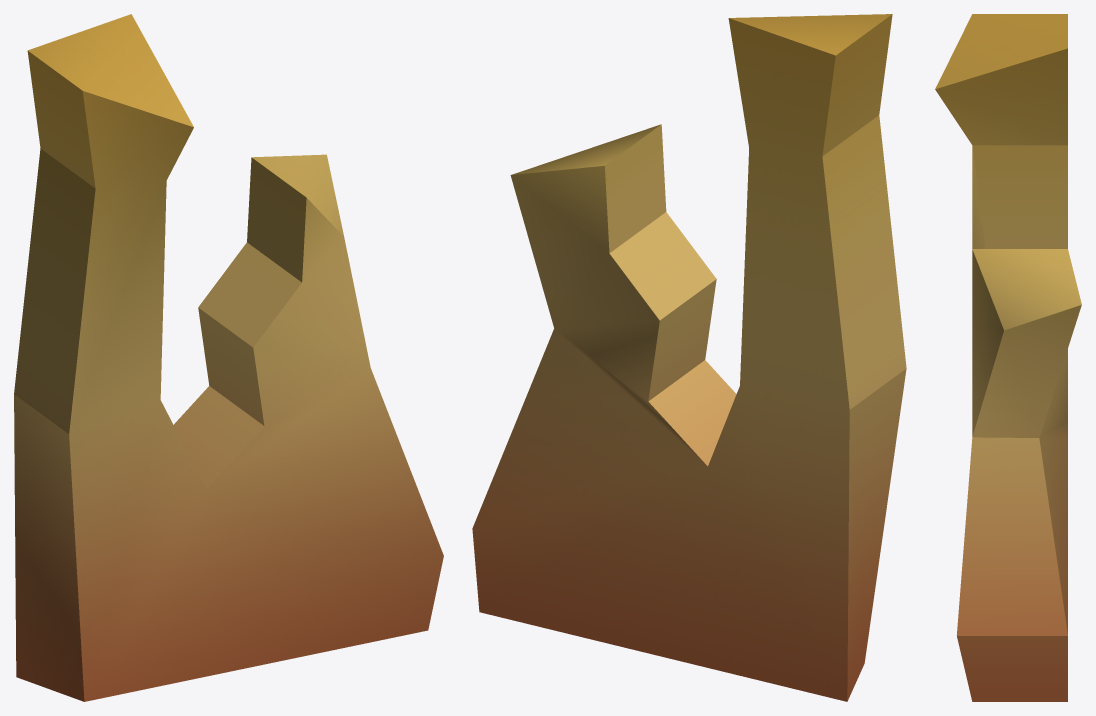
File: Canyon_Mountains_005.FBX
3 views of the same model, side by side, from view 1: azimuth 30°, elevation 25°; view 2: azimuth 150°, elevation 25°; view 3: azimuth 270°, elevation 25° (orthographic). The views are drawn at different scales.
Parts seen in each view (by area): view 1: Canyon_Mountains_005; view 2: Canyon_Mountains_005; view 3: Canyon_Mountains_005.
Boxes of the visible parts, box(x1,y1,x2,y2) form: Canyon_Mountains_005: box(14, 14, 443, 701); Canyon_Mountains_005: box(472, 14, 906, 701); Canyon_Mountains_005: box(935, 14, 1081, 701).
Size of the model in its own units: 521 by 864 by 209.
Materials: 1 (1 with a texture image).
